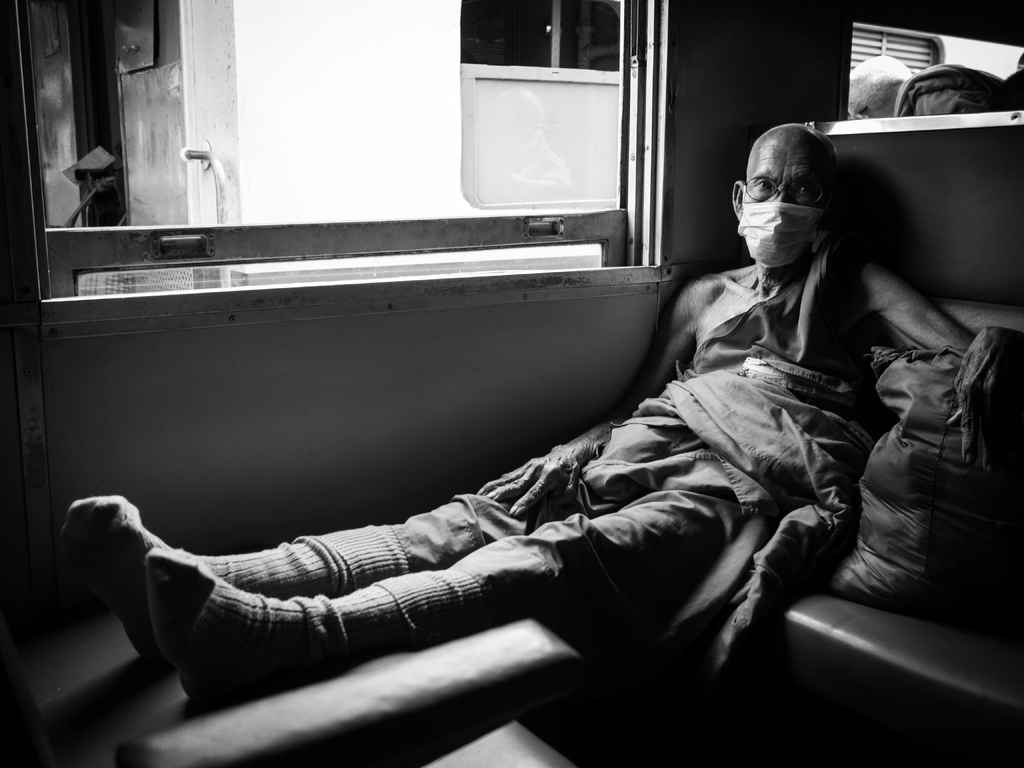Human_hand: (381, 516, 593, 649), (941, 330, 1023, 475), (470, 440, 584, 527)
